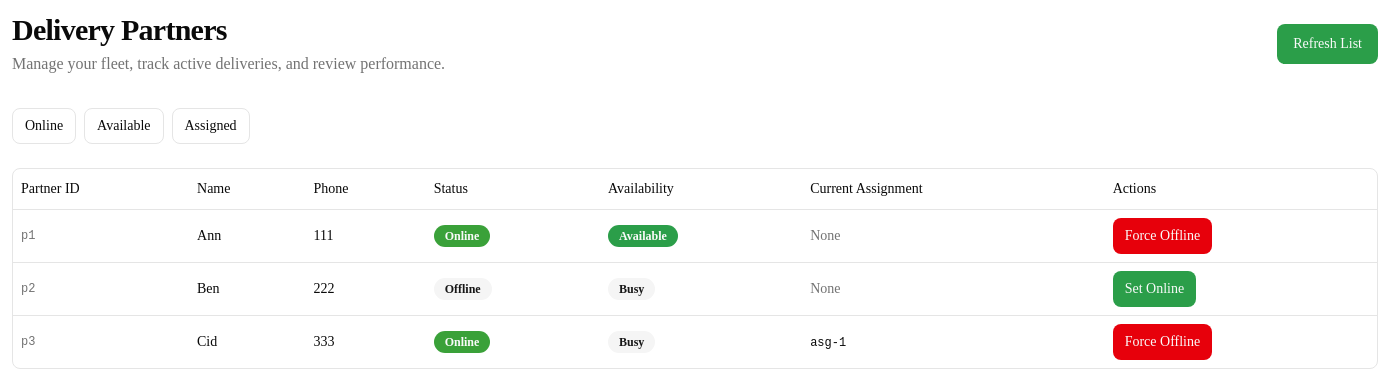
Test: DeliveryPartners page (Req 14.3, 14.5) › shows only assigned partners when the Assigned filter is selected (Req 14.3)
expect the text "Cid" is shown: met, box [189,315,306,368]
Click the button "Assigned": (211, 126) [172,108,250,144]
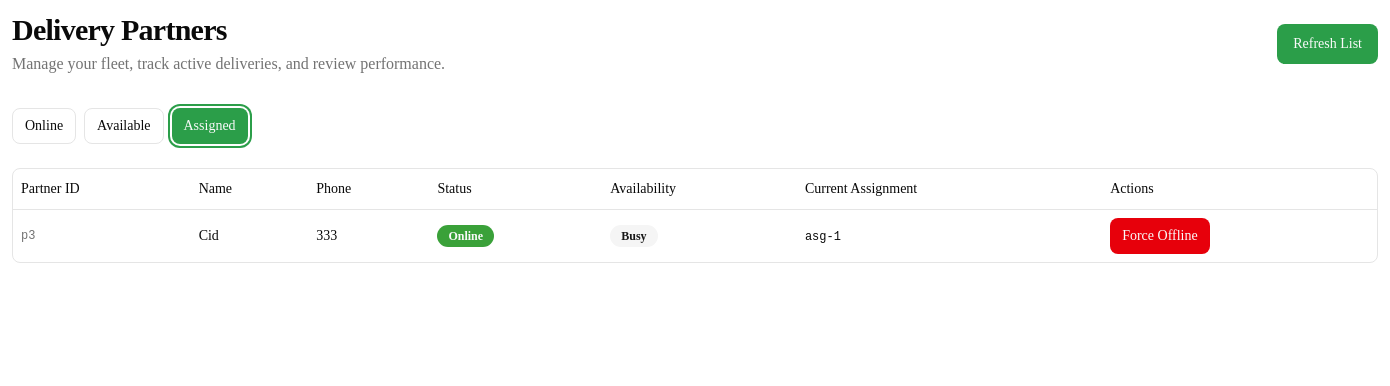
expect the text "Cid" is shown: met, box [191,209,308,262]
expect the text "Ann" is gone: met
expect the text "Ben" is gone: met
